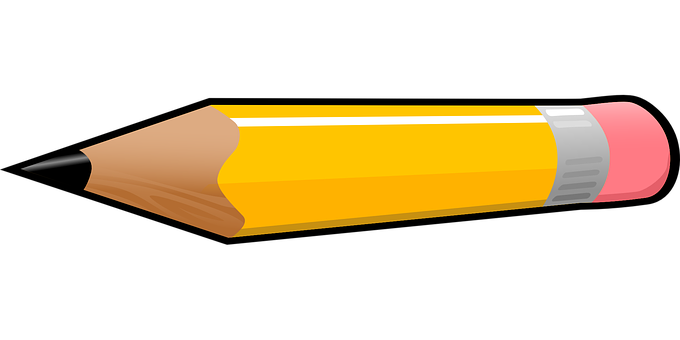pencil: (4, 41, 680, 254)
